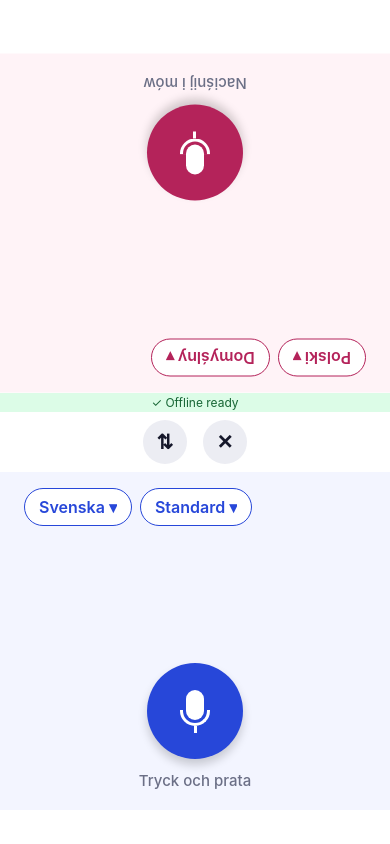
Test: FaceToFaceScreen › shows what was said and its translation after a mic tap
expect the element with test id "lang-bottom" shows "Svenska": met, box [39,496,105,516]
Step 1. Click the button with test id "mic-bottom" → click(195, 711), box [147,663,243,759]
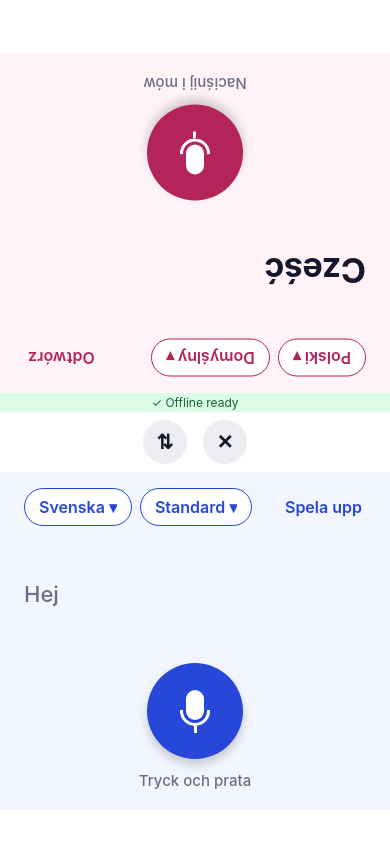
expect the text "Cześć" is shown: met, box [265,250,366,291]
expect the text "Hej" is shown: met, box [24,581,59,607]
